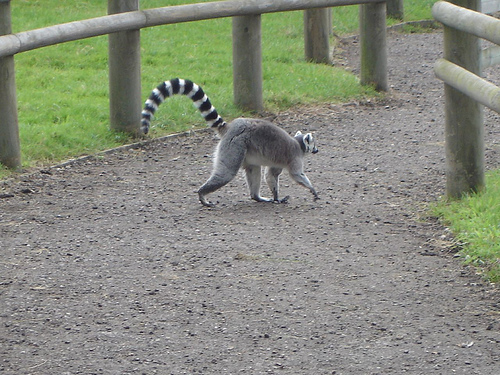cat: (141, 79, 320, 206)
